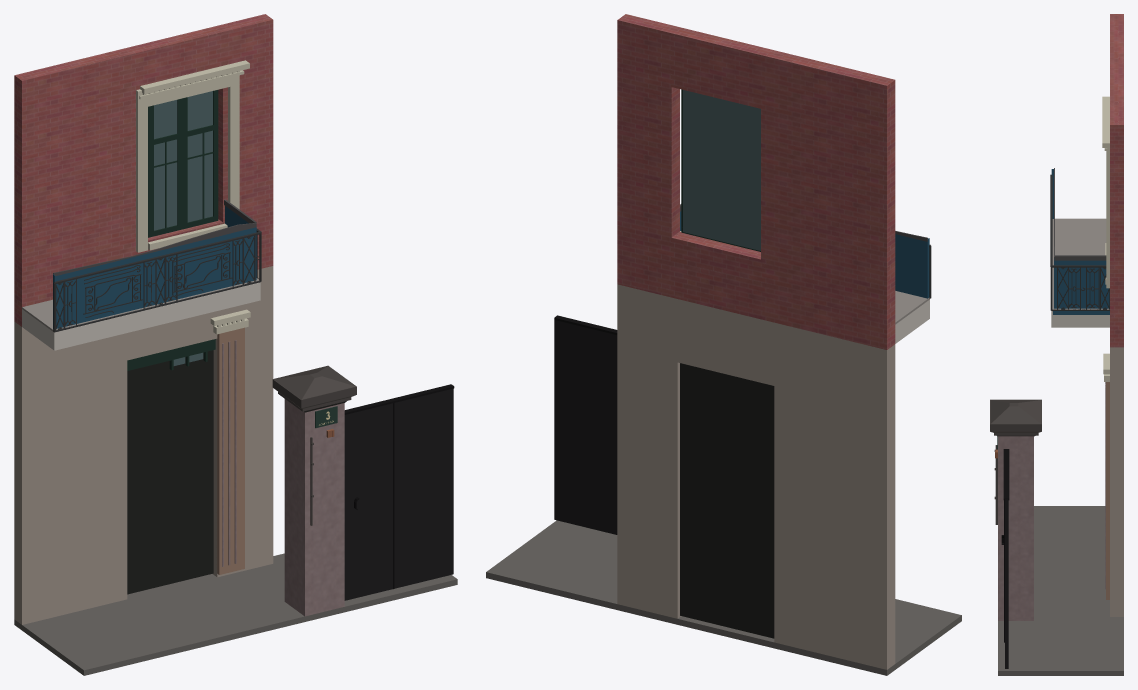
Rendered from xuhui-dafuli-yanqing-29-no3-court-raw.glb.
3 views of the same model, side by side, from view 1: azimuth 30°, elevation 25°; view 2: azimuth 150°, elevation 25°; view 3: azimuth 270°, elevation 25° (orthographic). The views are drawn at different scales.
Parts seen in each view (by area): view 1: 大福里延庆路29弄3号院门与露台; view 2: 大福里延庆路29弄3号院门与露台; view 3: 大福里延庆路29弄3号院门与露台.
Part boxes in pixels (<box>): 大福里延庆路29弄3号院门与露台: <box>14,14,457,675</box>; 大福里延庆路29弄3号院门与露台: <box>486,14,961,675</box>; 大福里延庆路29弄3号院门与露台: <box>990,14,1123,675</box>.
Size of the model in its own units: 4.74 by 6.65 by 1.62.
Materials: 20 (2 with a texture image).
